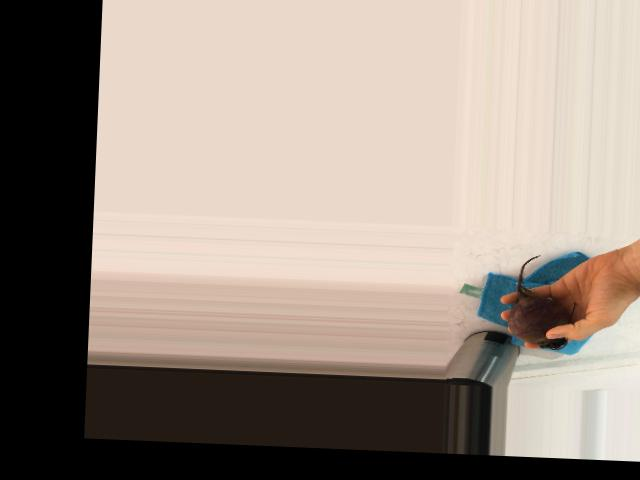beet: (506, 253, 576, 350)
